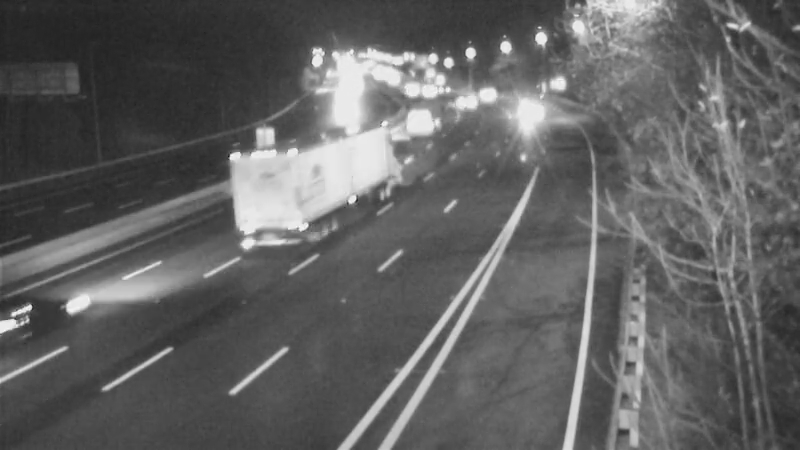vehicle: (1, 259, 103, 369), (233, 142, 313, 222), (463, 72, 513, 122), (405, 69, 455, 119), (442, 77, 492, 127), (502, 87, 552, 137), (395, 93, 445, 143)
